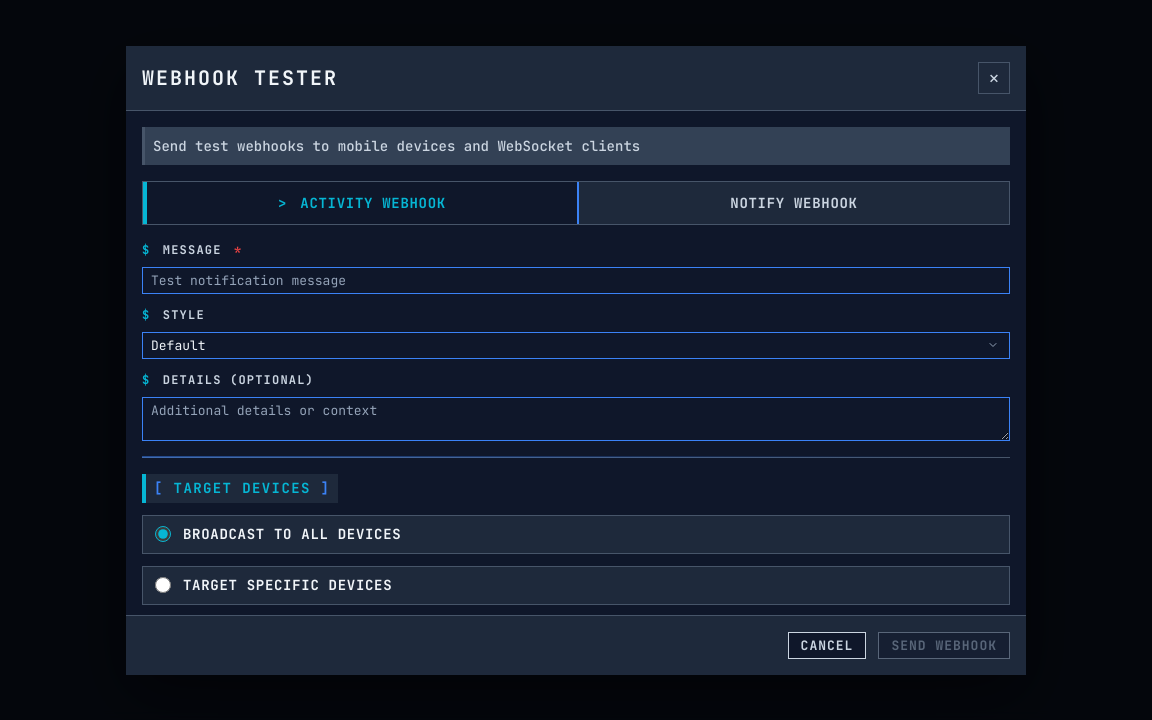
Test: WebhookTesterModal › Webhook Sending › should disable send button while sending
The width and height of the screenshot is (1152, 720).
Type "Test" into the field with placeholder "Test notification message" at (576, 280), box [142,267,1010,294]
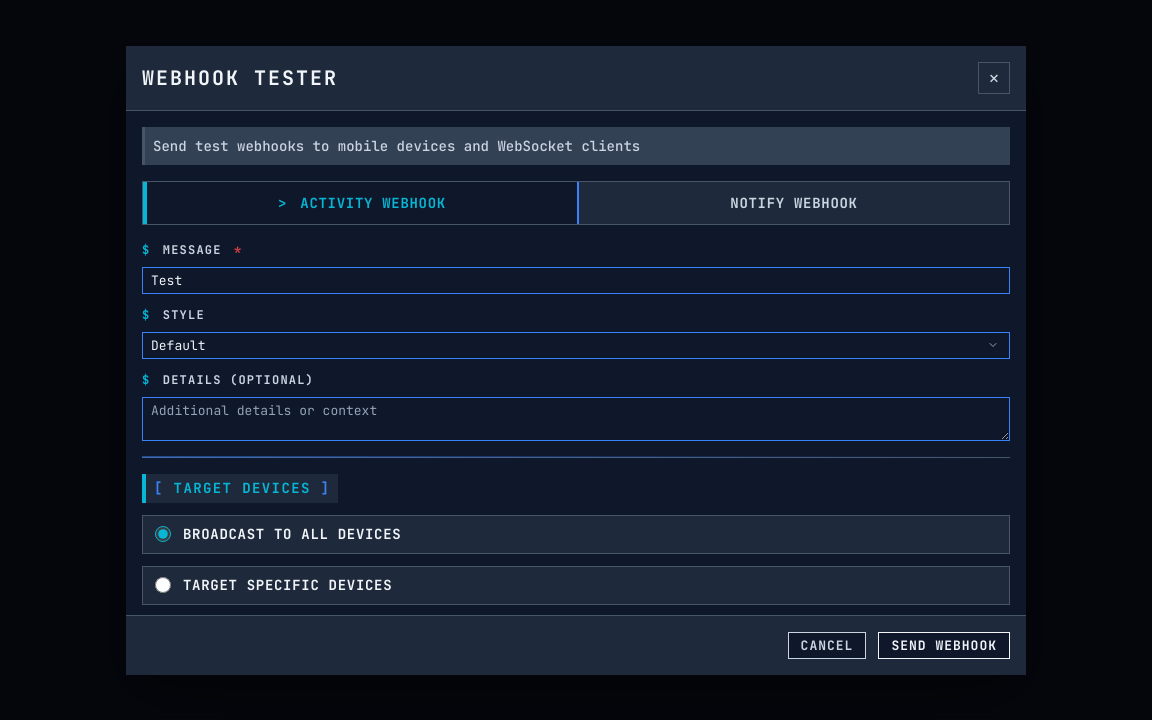
Click the button "SEND WEBHOOK" at (944, 645), box [878,632,1010,658]
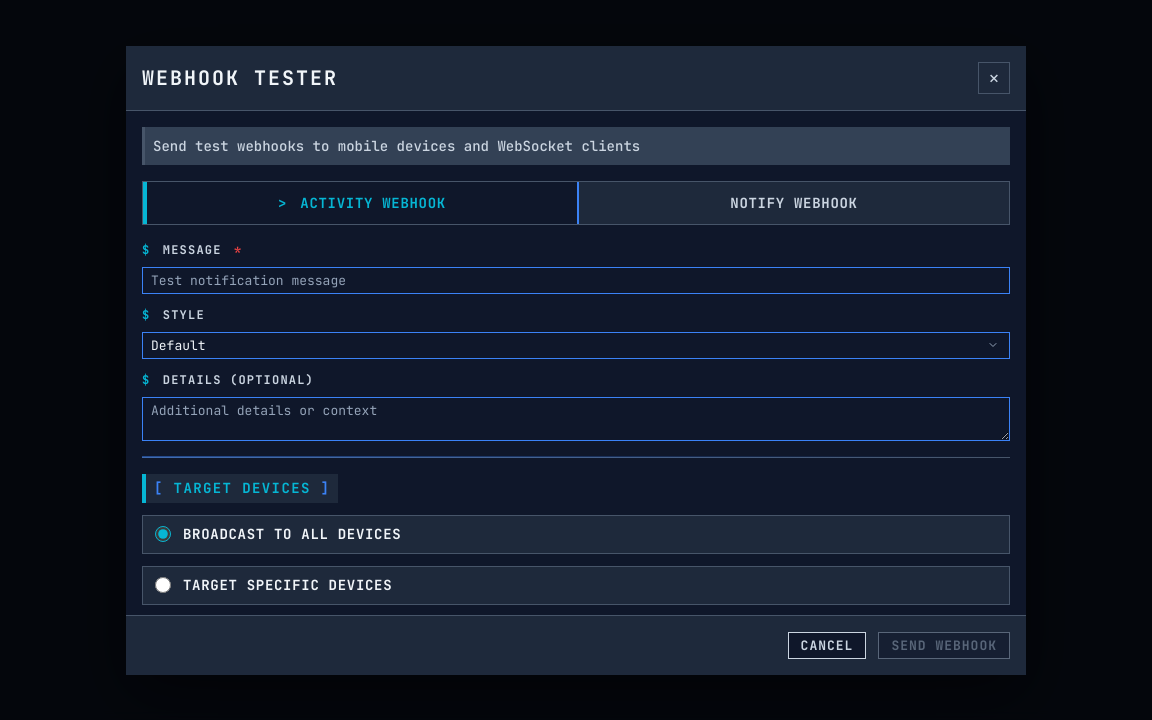
Now the button "SEND WEBHOOK" is disabled, box [878,632,1010,658]
